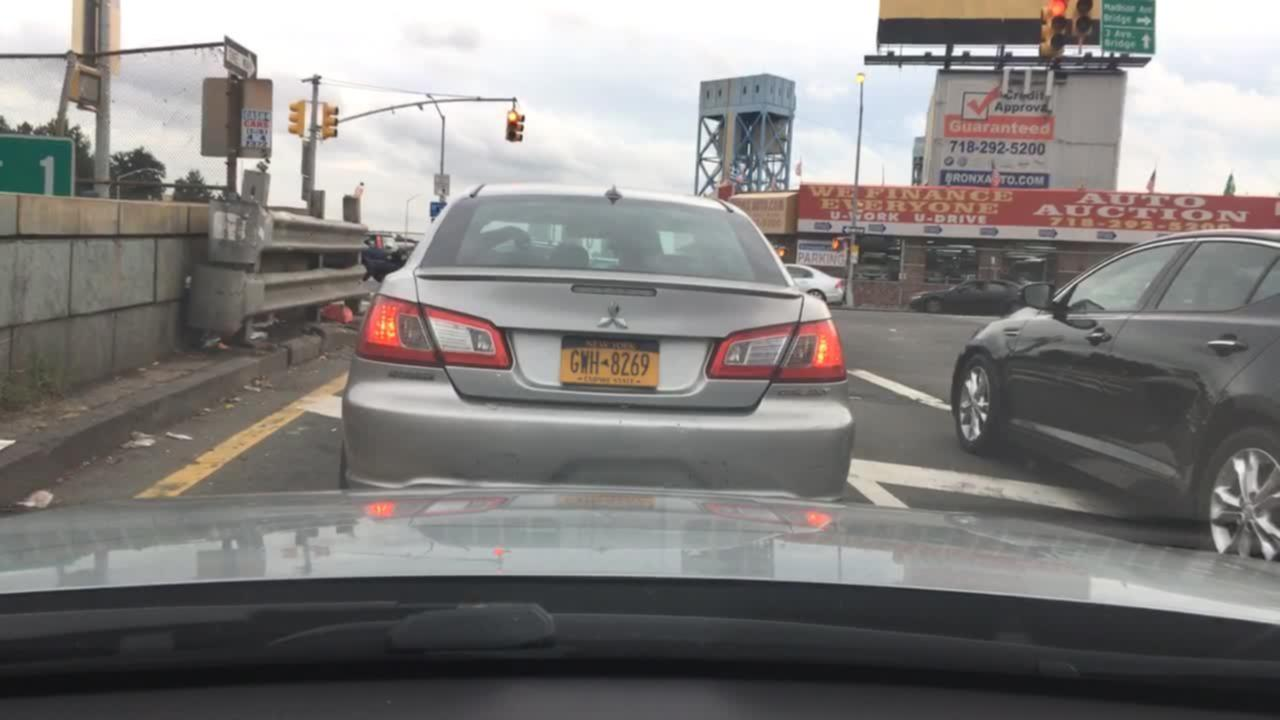Mitsubishi: (594, 297, 631, 336)
